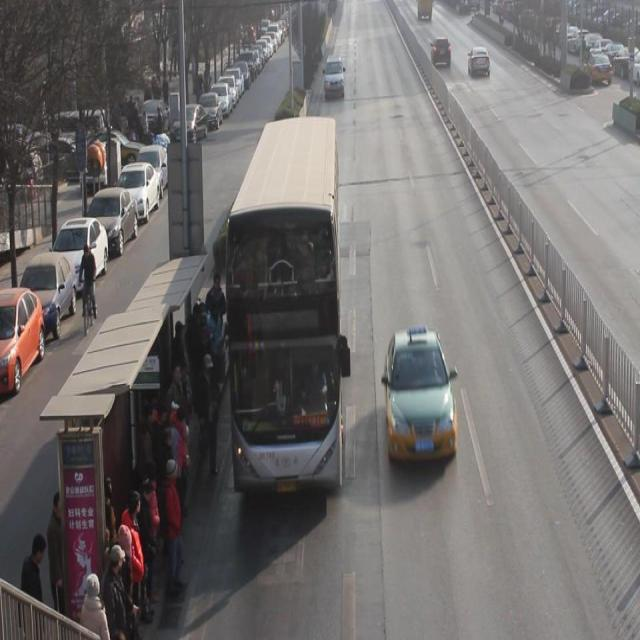car: (387, 331, 458, 461), (469, 44, 492, 78), (432, 35, 452, 67)
truck: (326, 51, 346, 100)
van: (224, 119, 342, 488)
